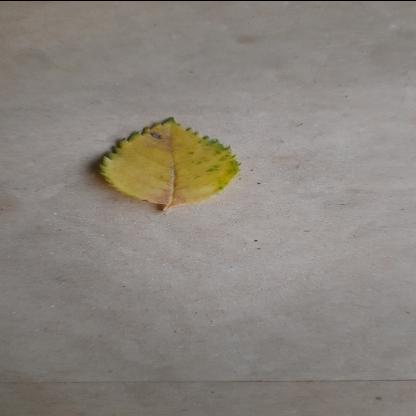black-spot: (99, 115, 247, 205)
